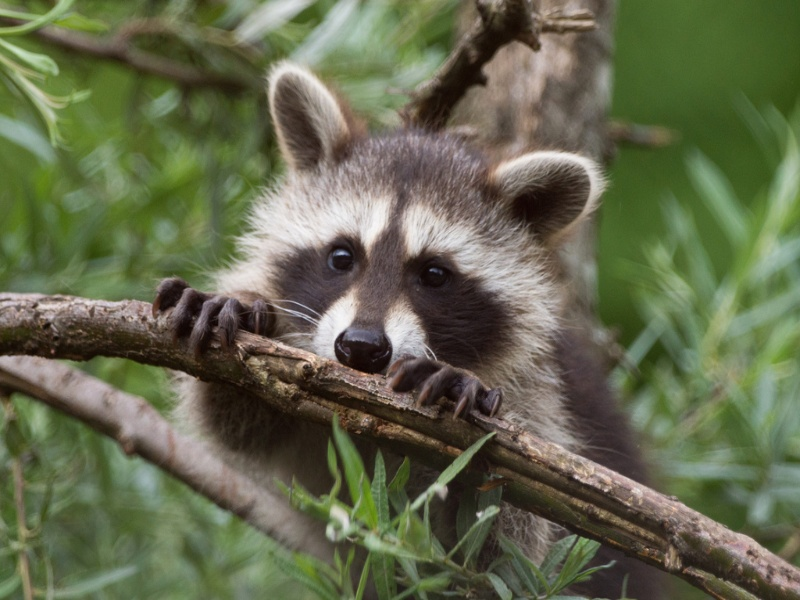raccoon: (156, 64, 646, 581)
